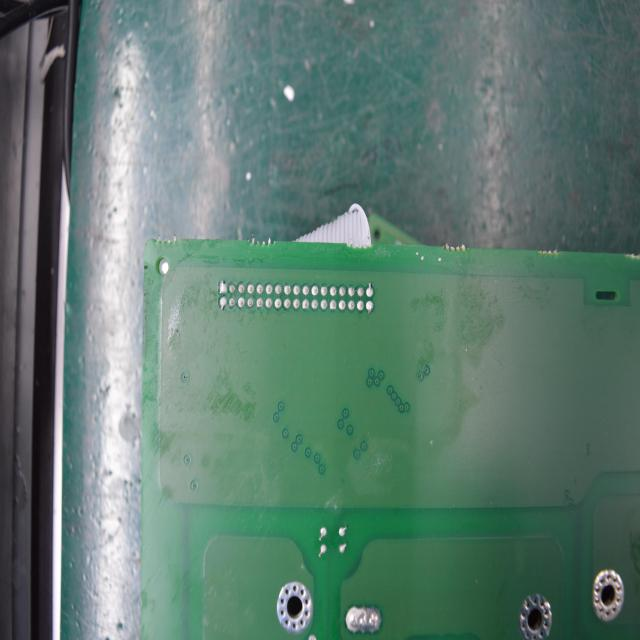redundant: (219, 282, 228, 293)
